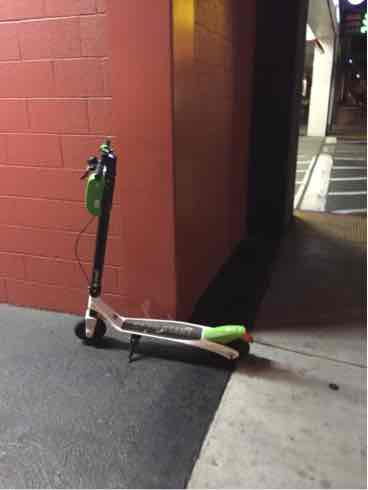scooter: (69, 118, 257, 373)
